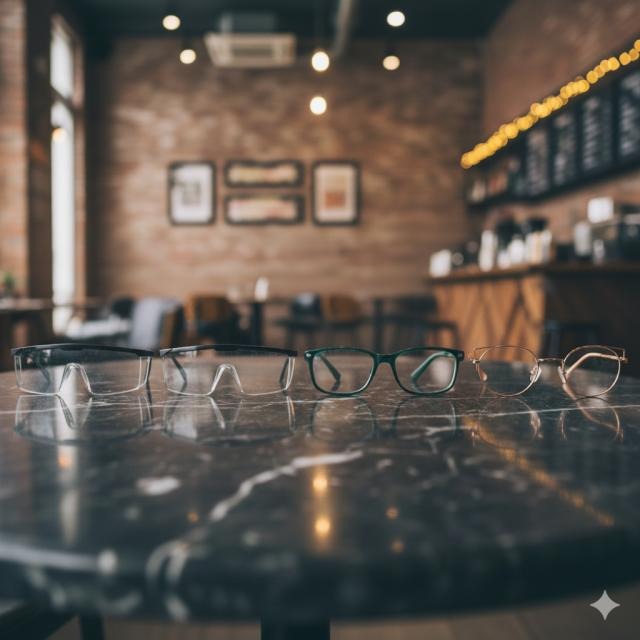oculos-epi: (11, 343, 152, 394), (161, 344, 296, 395)
sem_oculos: (469, 345, 627, 396), (304, 347, 464, 396)
